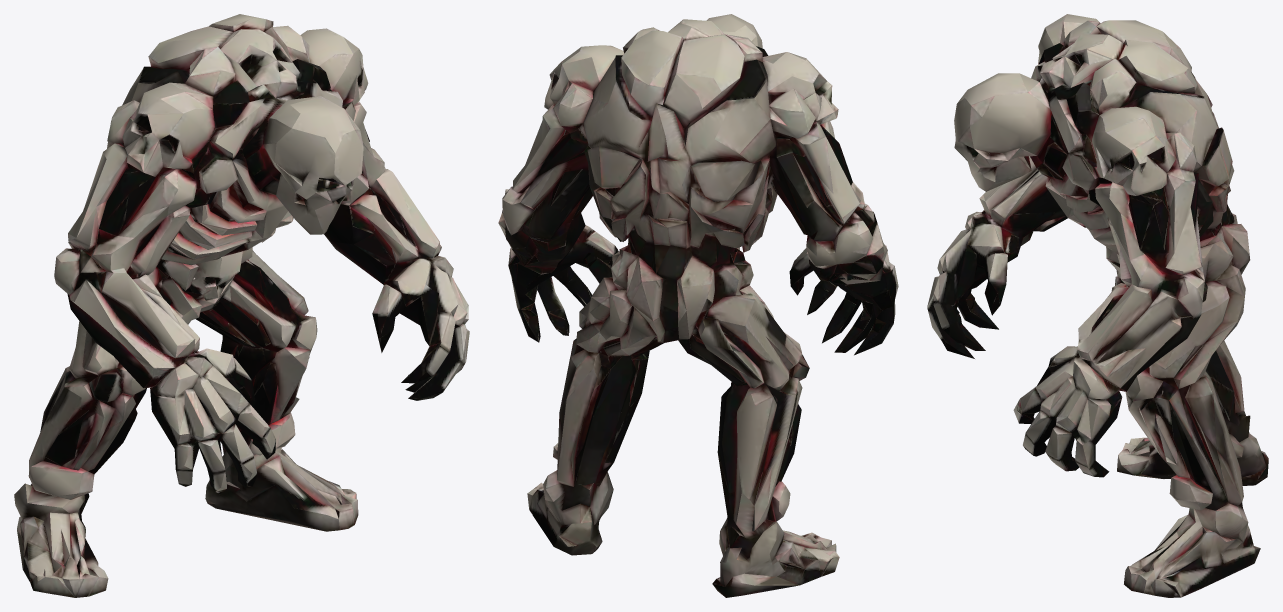
The model's file is revenant.glb.
3 renders of one model, left to right at view 1: azimuth 30°, elevation 25°; view 2: azimuth 150°, elevation 25°; view 3: azimuth 270°, elevation 25°, orthographic. The views are drawn at different scales.
Parts seen in each view (by area): view 1: mesh_node; view 2: mesh_node; view 3: mesh_node.
Boxes of the visible parts, x1,y1,x2,y2 form: mesh_node: [14, 14, 469, 597]; mesh_node: [498, 14, 898, 597]; mesh_node: [927, 14, 1268, 597].
Size of the model in its own units: 1.48 by 1.9 by 1.18.
1 material, 1 textured.
